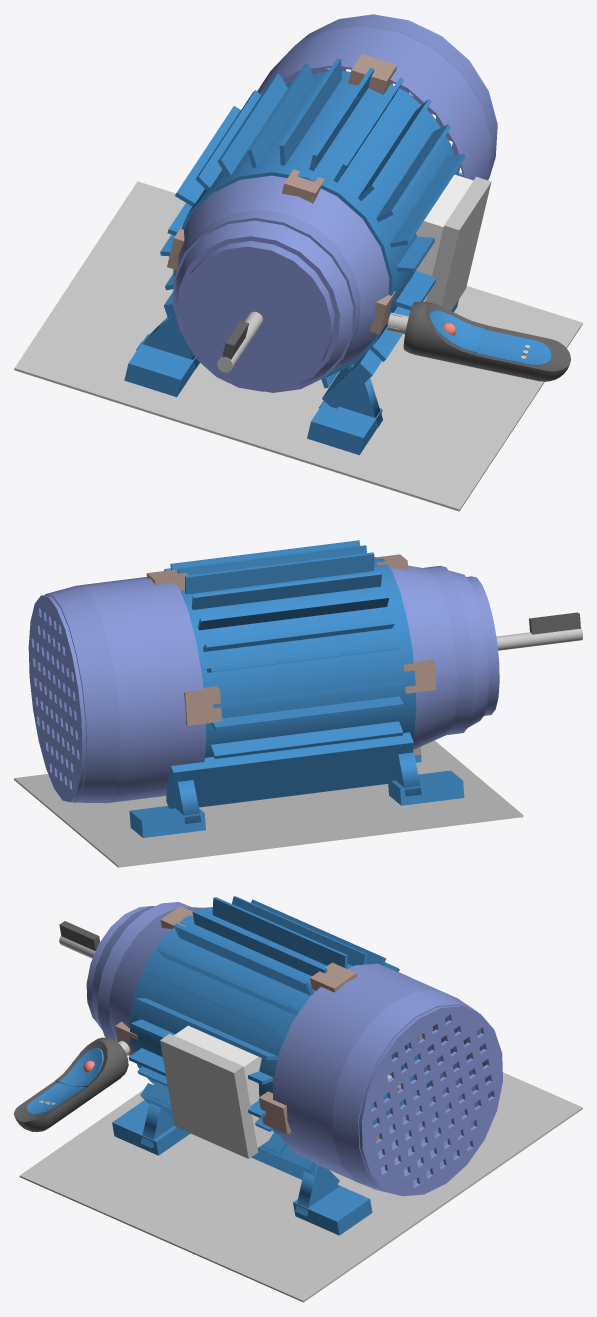
Rendered from MotorSensorV33.glb.
3 views of the same model, one above another, from view 1: azimuth 30°, elevation 25°; view 2: azimuth 150°, elevation 25°; view 3: azimuth 270°, elevation 25° (orthographic). The views are drawn at different scales.
Visible parts, largest first — view 1: Objeto.001, Objeto.072, Objeto.054, Objeto.042, Objeto.069, Objeto.071, Objeto.051, Objeto.009, Objeto.070, Objeto.043, Objeto.038, Objeto.048 (+24 smaller); view 2: Objeto.054, Objeto.001, Objeto.042, Objeto.035, Objeto.044, Objeto.043, Objeto.069, Objeto.066, Objeto.070, Objeto.061, Objeto.065, Objeto.064 (+17 smaller); view 3: Objeto.001, Objeto.044, Objeto.042, Objeto.054, Objeto.051, Objeto.043, Objeto.069, Objeto.066, Objeto.049, Objeto.009, Objeto.070, Objeto.052 (+21 smaller).
Part boxes in pixels (x1,y1,x2,y2): Objeto.001: (14,181,582,511); Objeto.072: (179,241,334,391); Objeto.054: (173,70,459,377); Objeto.042: (257,25,491,180); Objeto.069: (176,175,389,371); Objeto.071: (175,220,353,388); Objeto.051: (426,176,491,310); Objeto.009: (413,301,551,381); Objeto.070: (172,209,360,392); Objeto.043: (273,15,496,175); Objeto.038: (124,334,195,397); Objeto.048: (307,401,382,455); Objeto.054: (180,557,416,757); Objeto.001: (14,740,523,867); Objeto.042: (77,577,206,802); Objeto.035: (166,732,413,808); Objeto.044: (28,595,86,802); Objeto.043: (45,585,119,803); Objeto.069: (390,565,457,749); Objeto.066: (185,552,374,594); Objeto.070: (423,566,473,734); Objeto.061: (210,721,403,758); Objeto.065: (191,572,381,609); Objeto.064: (198,594,389,630); Objeto.001: (19,1072,582,1302); Objeto.044: (359,1005,502,1196); Objeto.042: (272,963,474,1181); Objeto.054: (129,907,418,1134); Objeto.051: (160,1033,258,1158); Objeto.043: (333,990,491,1195); Objeto.069: (109,907,204,1056); Objeto.066: (212,897,347,968); Objeto.049: (293,1185,372,1235); Objeto.009: (19,1039,124,1128); Objeto.070: (97,902,191,1040); Objeto.052: (174,1025,273,1147).
Bounding box in the file's own units: 1397 × 709 × 1415.
